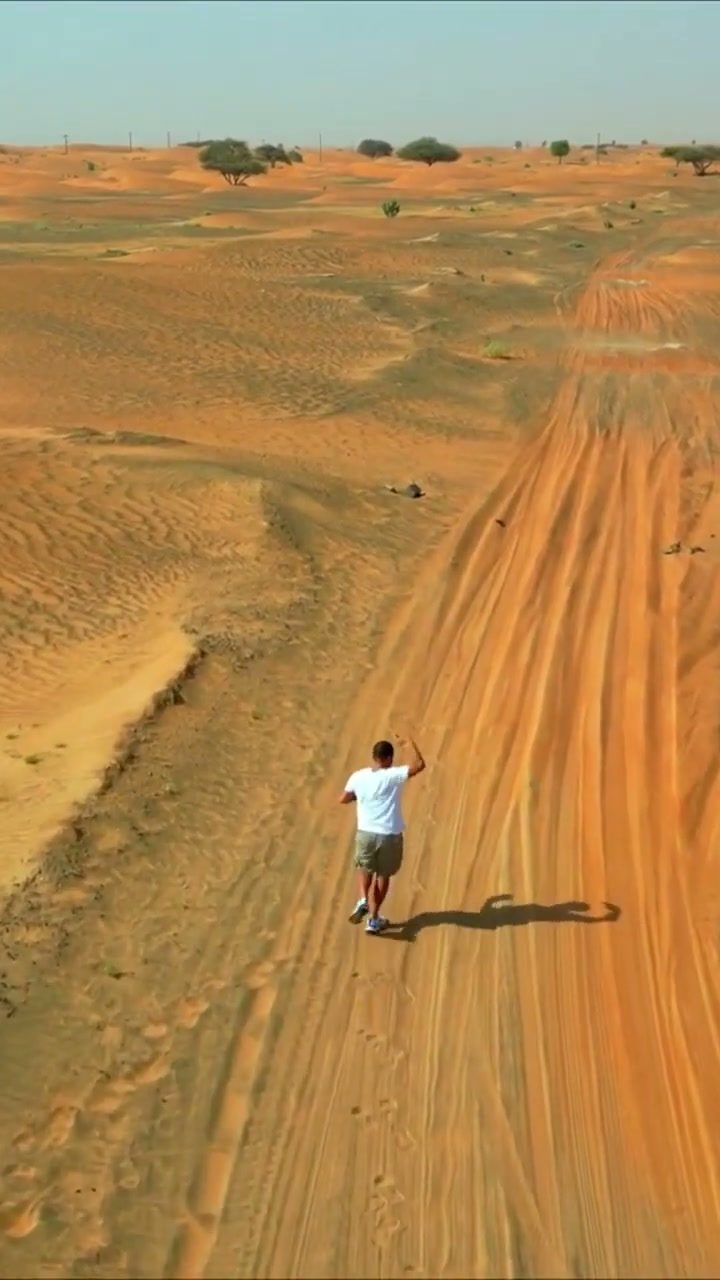human: (340, 737, 425, 932)
vehicle_track: (461, 295, 719, 1279)
